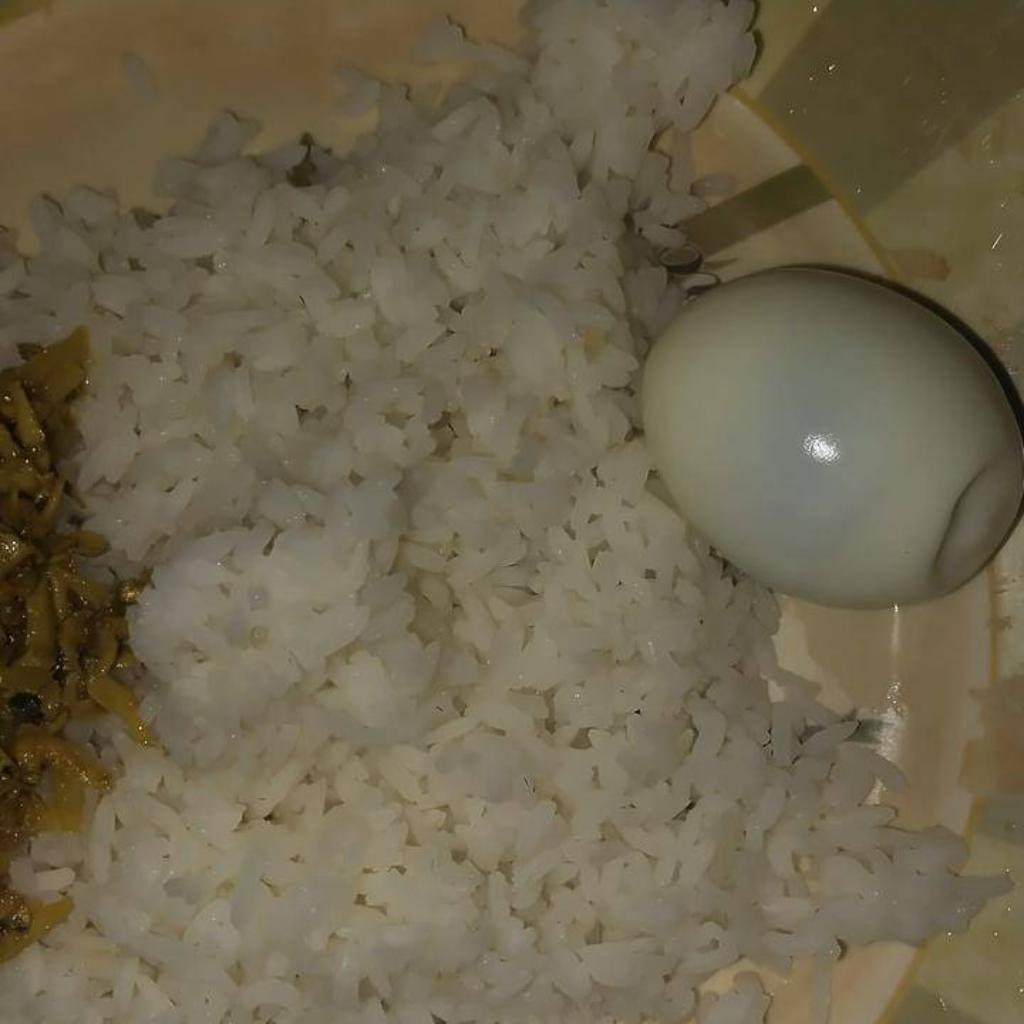egg-boiled: (643, 262, 1023, 604)
rice: (5, 0, 1016, 1023)
